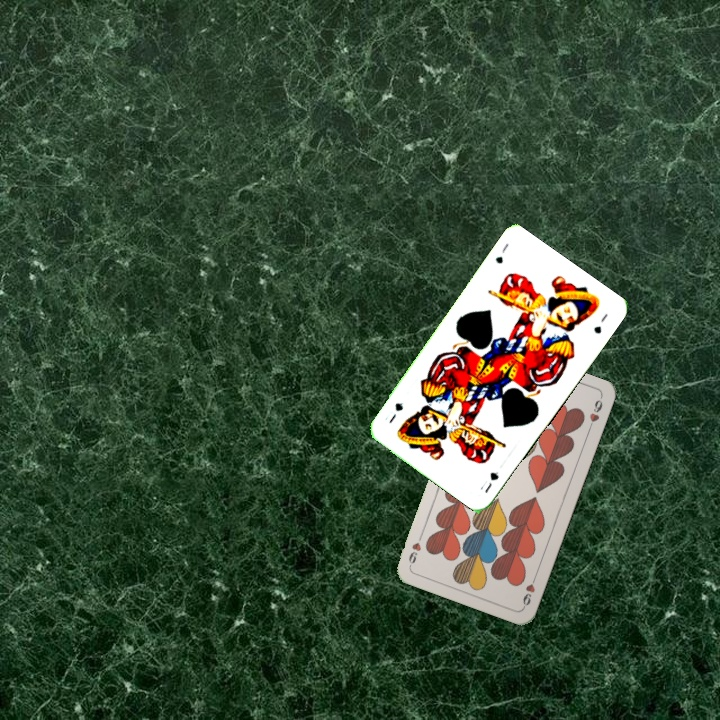GU: (480, 467, 501, 496), (491, 239, 511, 266)
H9: (519, 571, 539, 610)
